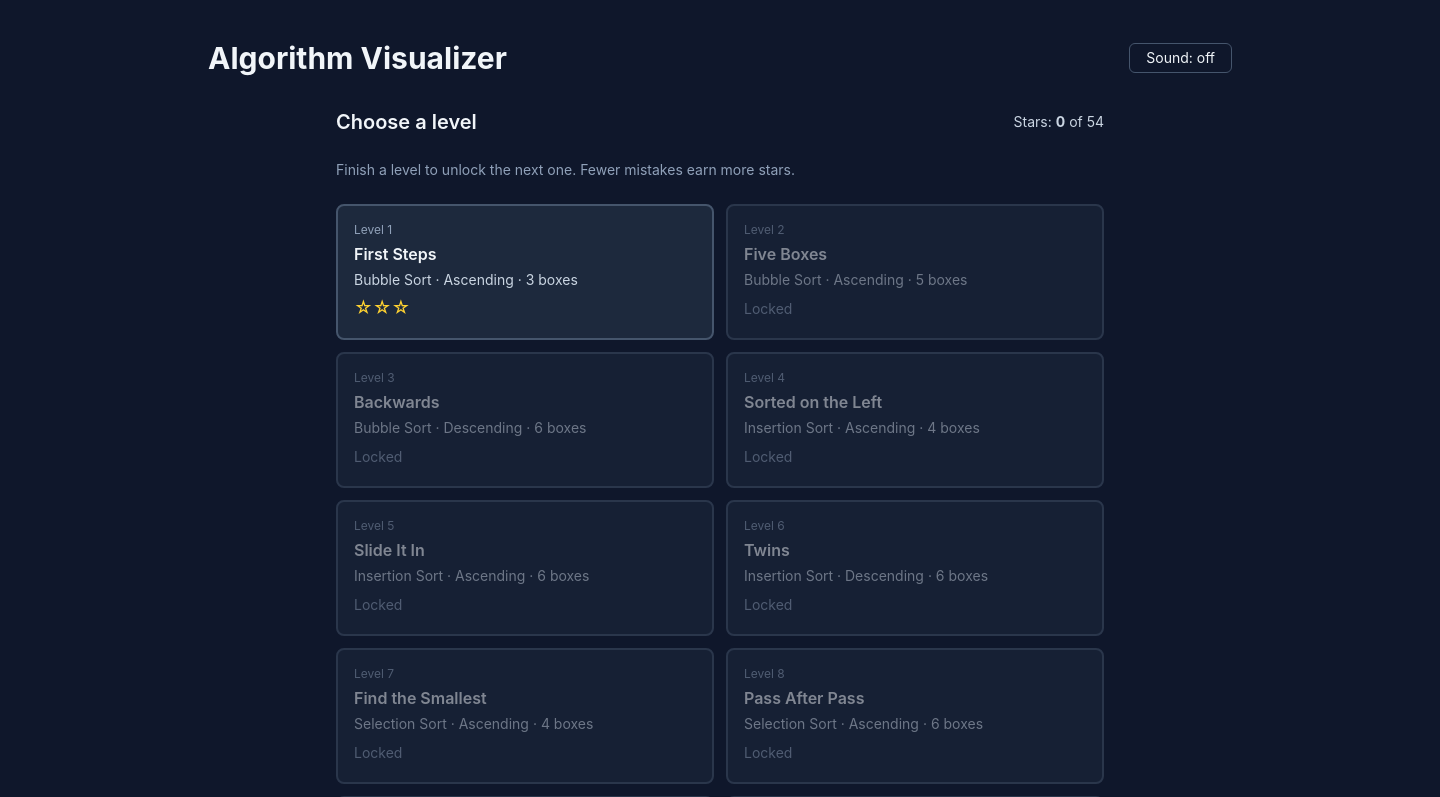
Scenario: App › plays level 1, saves 3 stars and opens the next level
The image size is (1440, 797).
What coordinates should you click on to do the following:
click the button with aria-label "Level 1:"
I would click on:
 (525, 272)
Its box is [336,204,714,340].
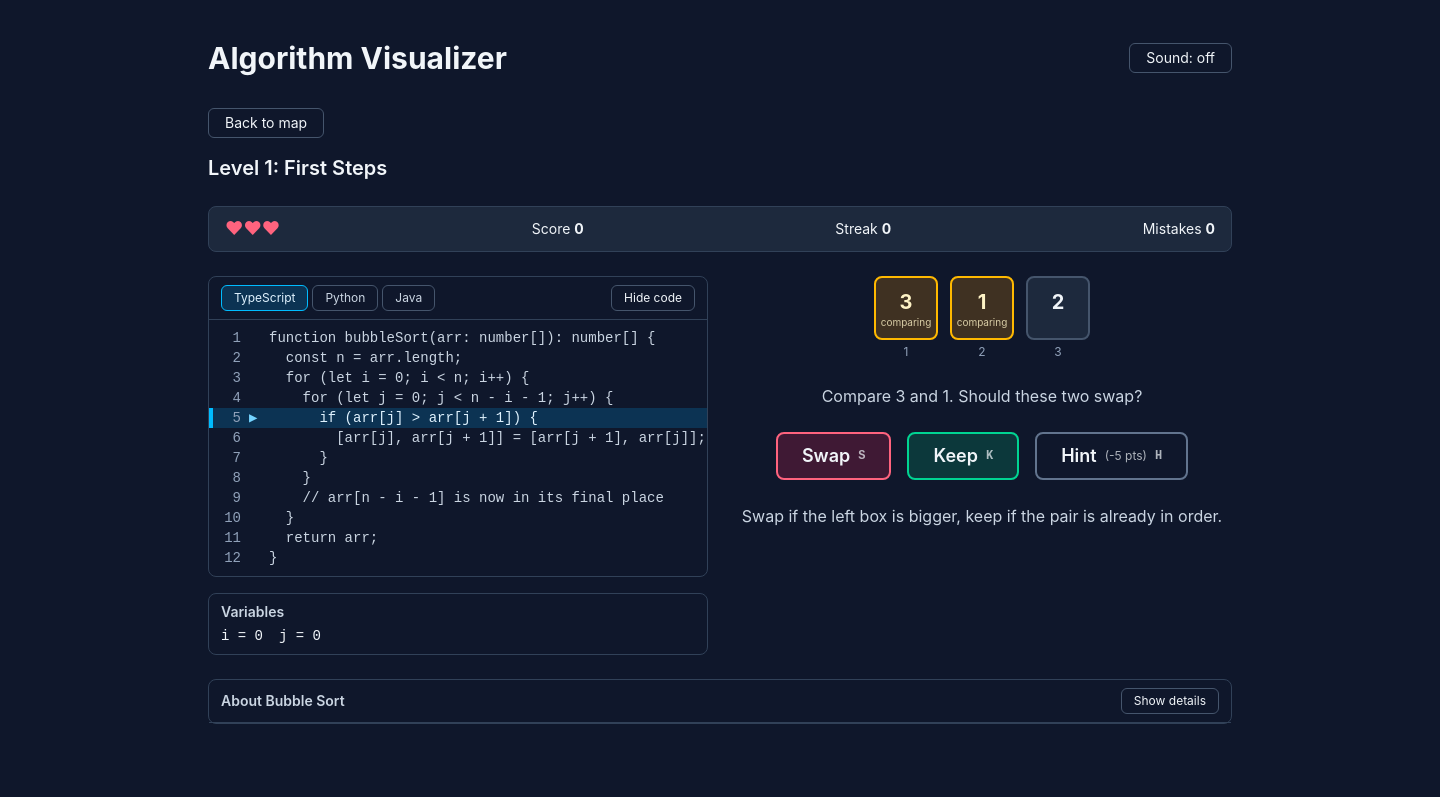
Check: the heading "Level 1: First Steps" is shown, box [208,156,387,180]
What coordinates should you click on to do the following:
click the button "Swap S"
I would click on:
 (834, 456)
Its box is [776,432,892,480].
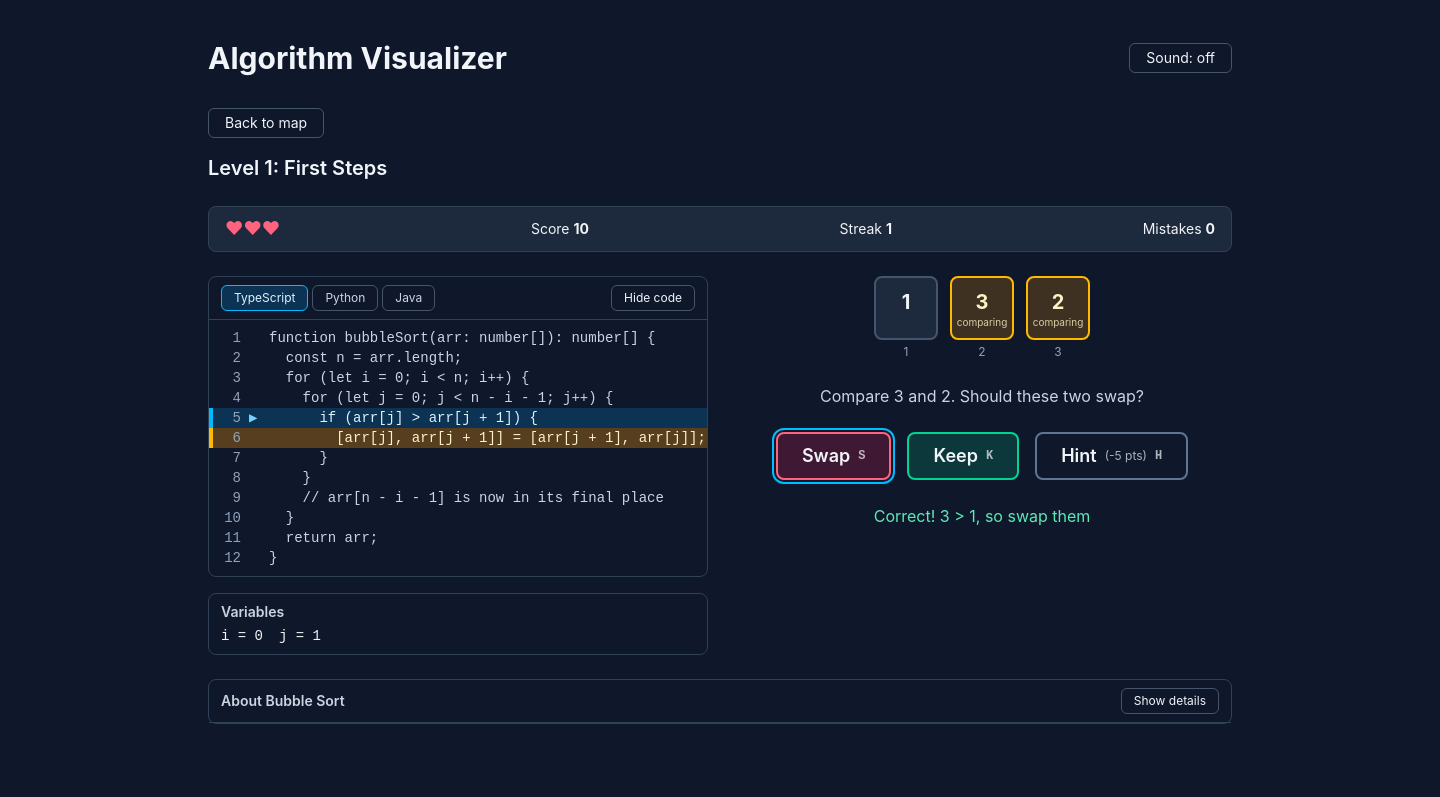
What coordinates should you click on to do the following:
click the button "Swap S"
I would click on:
 (834, 456)
Its box is [776,432,892,480].
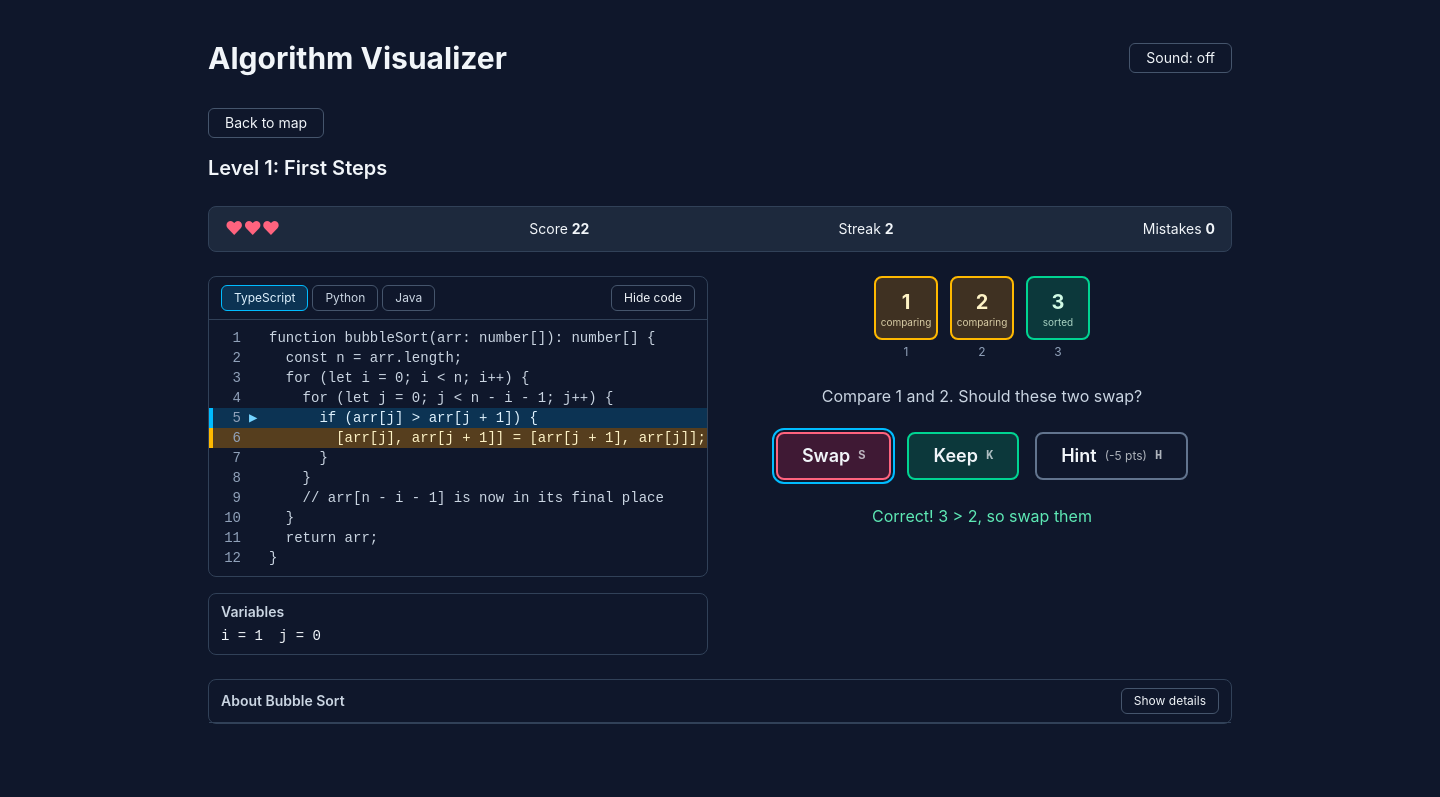
What coordinates should you click on to do the following:
click the button "Keep K"
I would click on:
 (963, 456)
Its box is [908,432,1019,480].
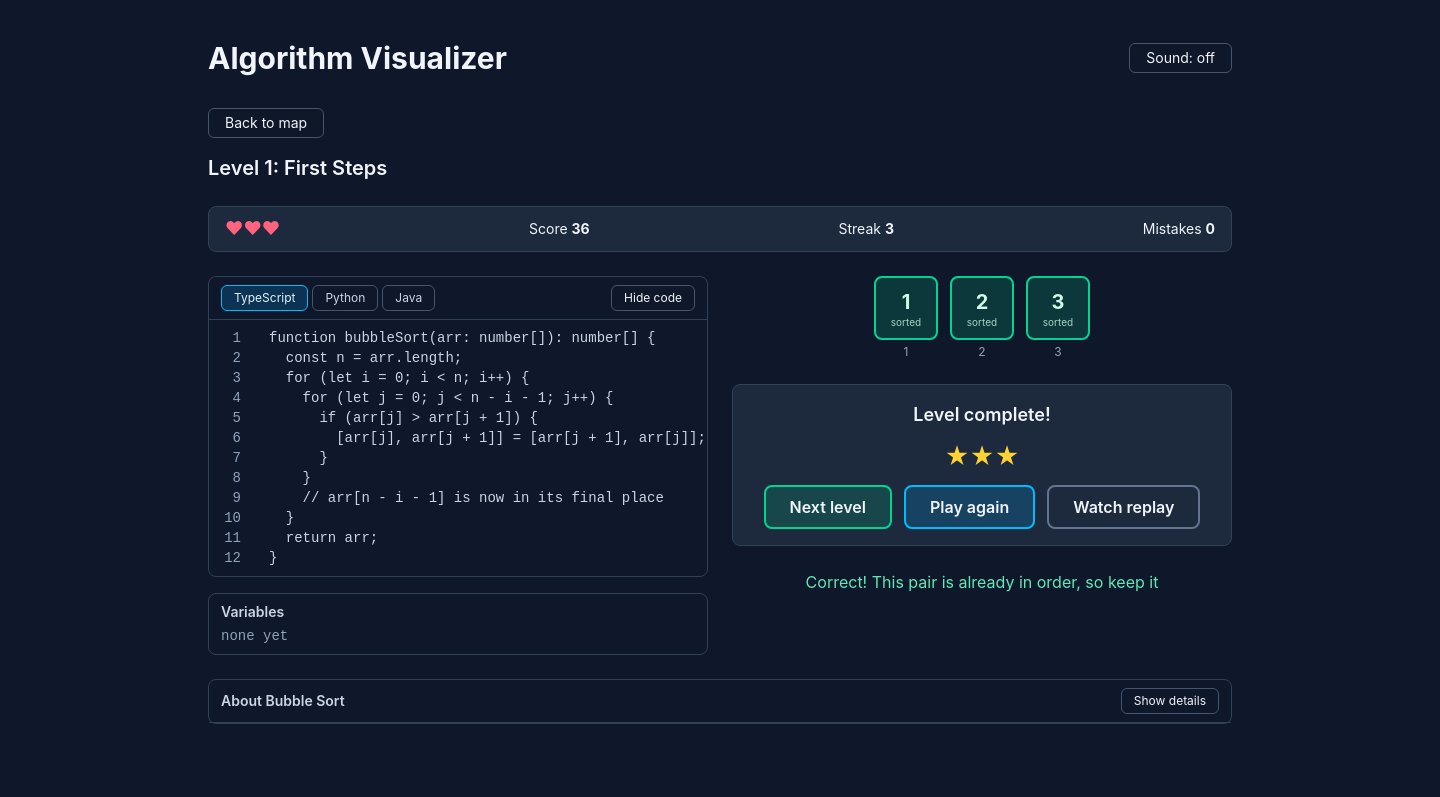
Check: the text "Level complete!" is shown, box [913,401,1051,429]
Check: the picture named "3 of 3 stars" is shown, box [944,441,1020,473]
What coordinates should you click on to do the following:
click the button "Next level"
I would click on:
 (828, 507)
Its box is [764,485,892,529].
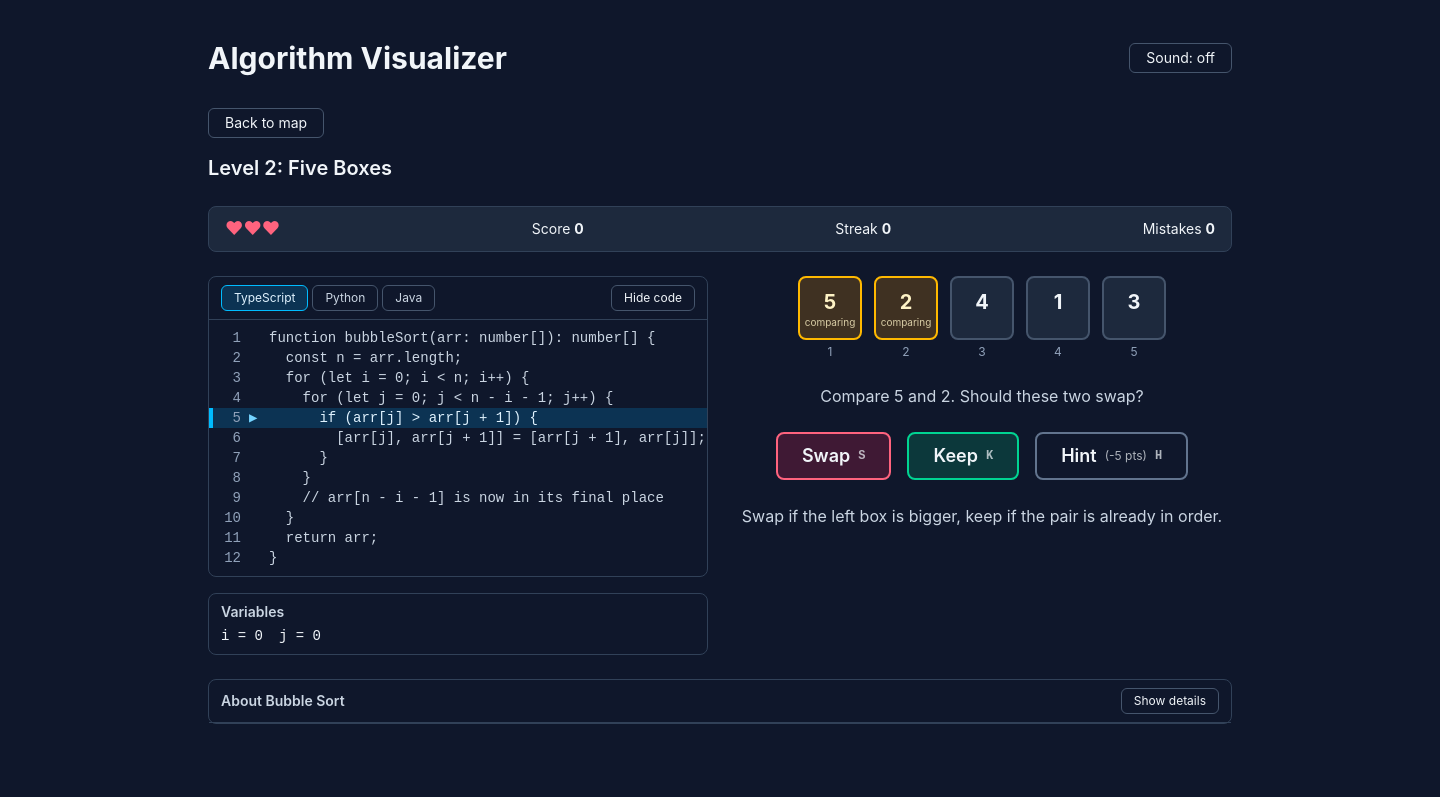
Check: the heading "Level 2: Five Boxes" is shown, box [208,156,392,180]
